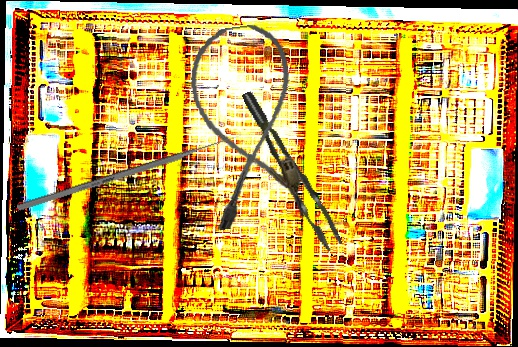Cannula: (184, 20, 309, 232)
Pusher: (16, 131, 243, 213)
Tissue Forceps: (241, 81, 344, 259)
